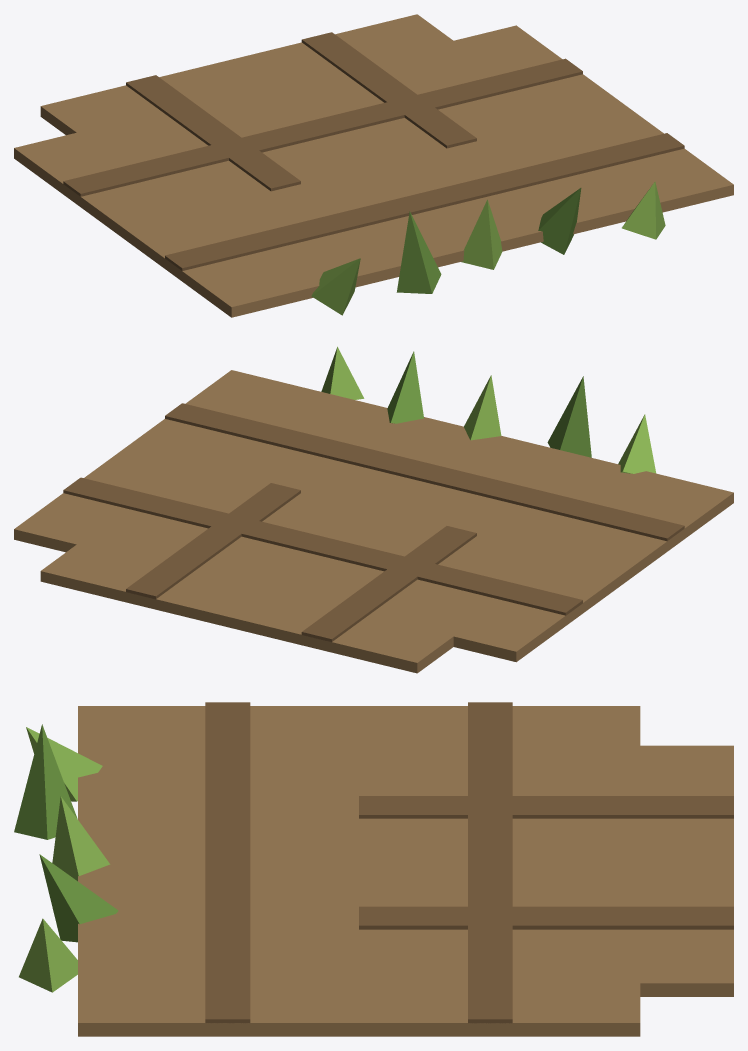
The model's file is road_dirt_tee.glb.
3 views of the same model, one above another, from view 1: azimuth 30°, elevation 25°; view 2: azimuth 150°, elevation 25°; view 3: azimuth 270°, elevation 25° (orthographic). The views are drawn at different scales.
Parts seen in each view (by area): view 1: street_dirt_tee; view 2: street_dirt_tee; view 3: street_dirt_tee.
Boxes of the visible parts, left/top/right/bottom form: street_dirt_tee: left=14, top=14, right=733, bottom=317; street_dirt_tee: left=14, top=346, right=733, bottom=673; street_dirt_tee: left=14, top=702, right=733, bottom=1036.
Size of the model in its own units: 2 by 0.3453 by 1.92.
